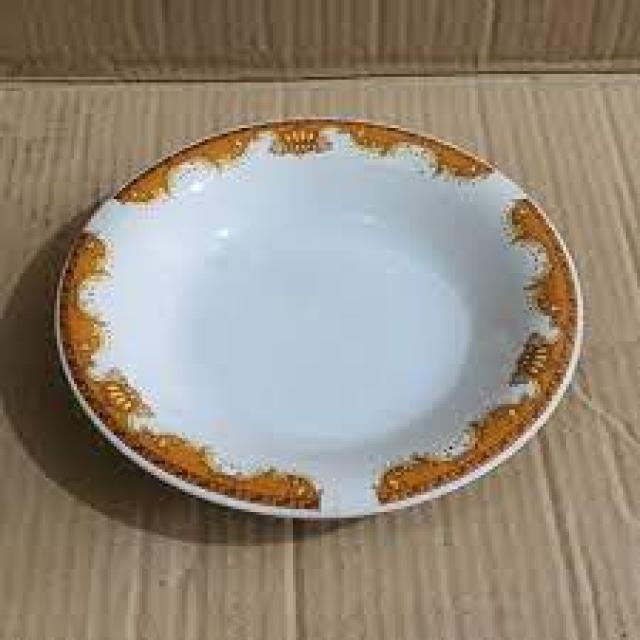Plate: (36, 105, 605, 546)
